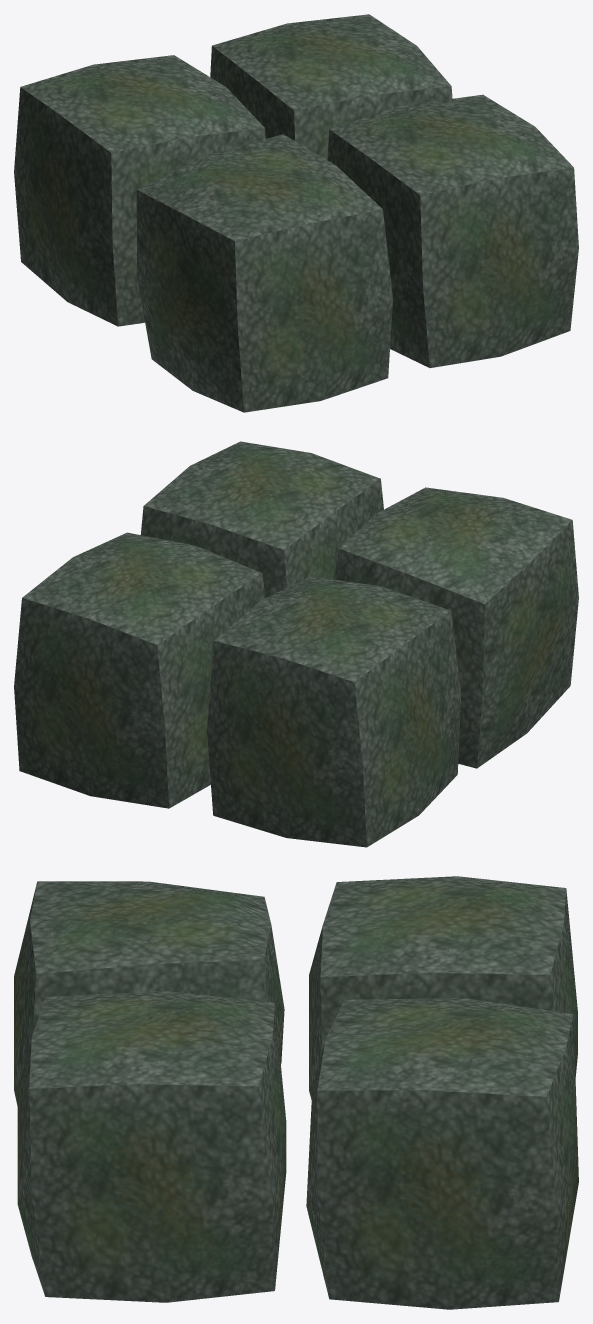
File: ruins08.obj
The picture shows the model from 3 angles, top to bottom: view 1: azimuth 30°, elevation 25°; view 2: azimuth 150°, elevation 25°; view 3: azimuth 270°, elevation 25°; orthographic projection. The views are drawn at different scales.
Visible parts, largest first — view 1: Duplicate19, Box07, Duplicate18, Duplicate17; view 2: Duplicate18, Duplicate17, Duplicate19, Box07; view 3: Duplicate17, Box07, Duplicate18, Duplicate19.
Boxes of the visible parts, x1=… form: Duplicate19: x1=136, y1=134, x2=392, y2=412; Box07: x1=327, y1=94, x2=578, y2=367; Duplicate18: x1=14, y1=55, x2=265, y2=326; Duplicate17: x1=210, y1=14, x2=452, y2=159; Duplicate18: x1=207, y1=576, x2=461, y2=847; Duplicate17: x1=14, y1=532, x2=265, y2=808; Duplicate19: x1=334, y1=487, x2=578, y2=768; Box07: x1=140, y1=441, x2=383, y2=597; Duplicate17: x1=306, y1=998, x2=578, y2=1309; Box07: x1=17, y1=991, x2=286, y2=1302; Duplicate18: x1=309, y1=876, x2=577, y2=1099; Duplicate19: x1=14, y1=881, x2=284, y2=1105.
Bounding box in the file's own units: 36.02 × 19.44 × 39.27.
